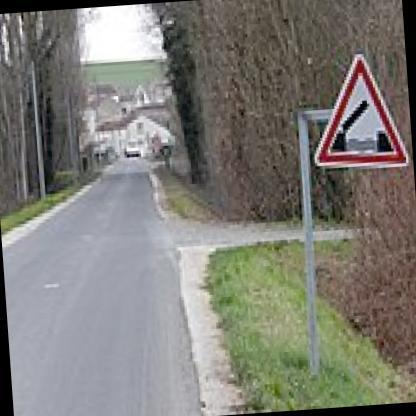road_sign: (315, 54, 409, 167)
